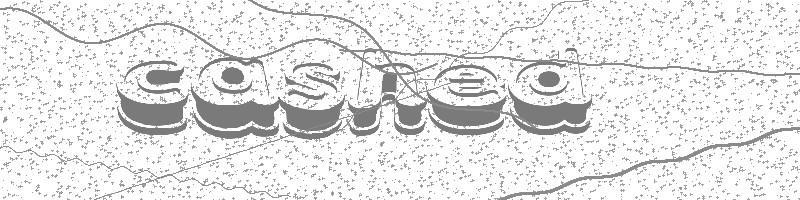a: (191, 55, 279, 139)
c: (115, 59, 189, 136)
d: (508, 48, 593, 135)
e: (426, 63, 507, 136)
h: (348, 47, 428, 136)
s: (280, 60, 346, 141)
